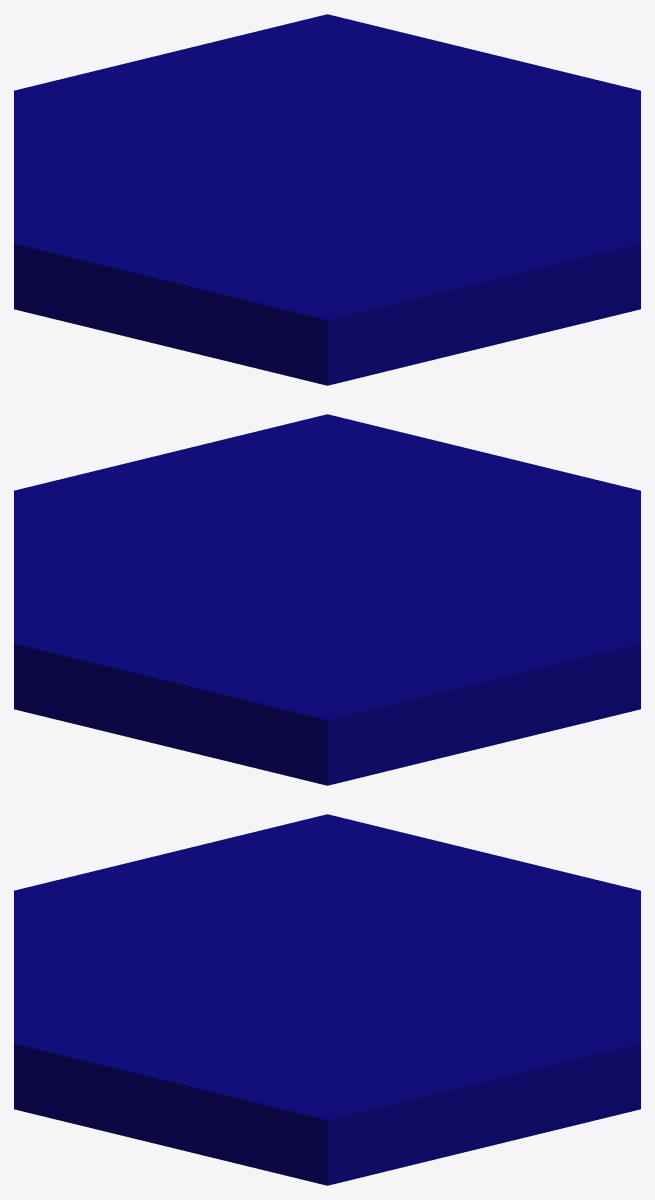
The model's file is oceanTile.glb.
The picture shows the model from 3 angles, top to bottom: view 1: azimuth 30°, elevation 25°; view 2: azimuth 150°, elevation 25°; view 3: azimuth 270°, elevation 25°; orthographic projection.
Parts seen in each view (by area): view 1: Tile; view 2: Tile; view 3: Tile.
Boxes of the visible parts, x1,y1,x2,y2 form: Tile: (14, 14, 640, 385); Tile: (14, 414, 640, 785); Tile: (14, 814, 640, 1185).
Bounding box in the file's own units: 2 × 0.2 × 1.73.
